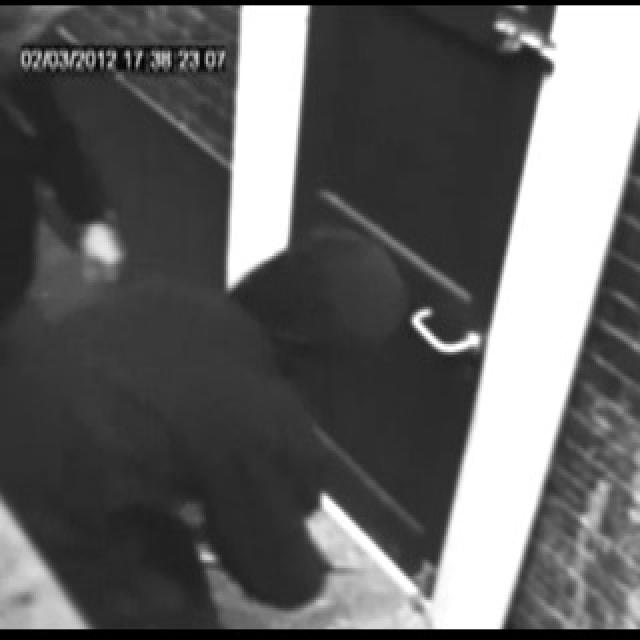thief: (204, 197, 419, 412)
